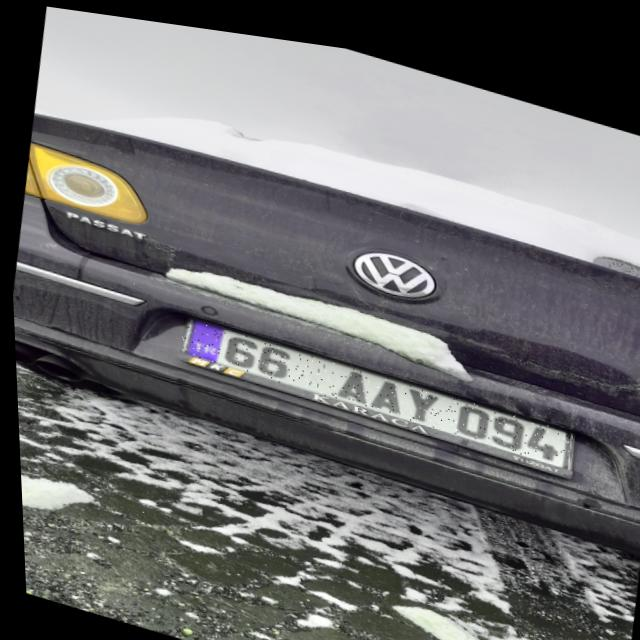license_plate: (176, 312, 569, 452)
